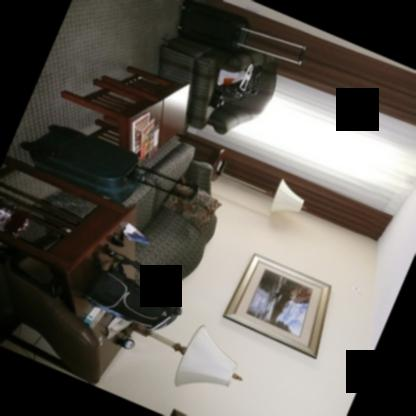backpack: (83, 269, 180, 331)
handbag: (214, 68, 260, 103)
suitcase: (17, 124, 201, 203), (175, 0, 304, 65)
